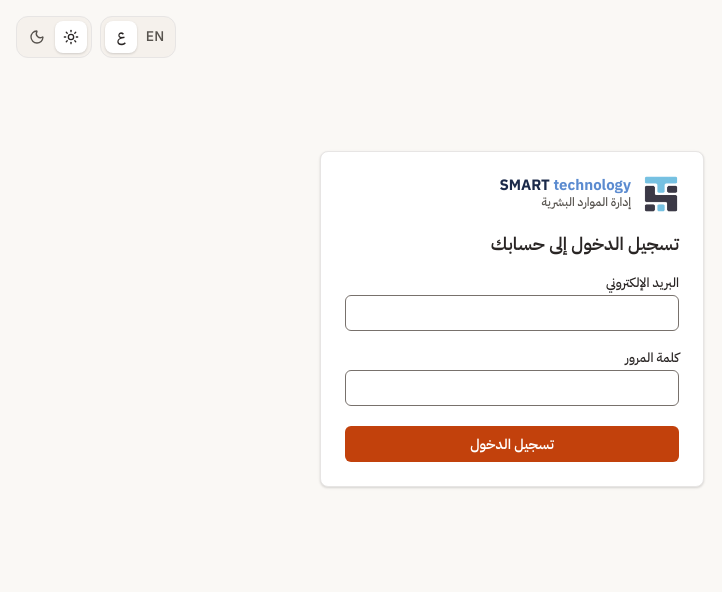
shows the translated refusal
The image size is (722, 592).
In the field labelled "البريد الإلكتروني": x=512, y=313 [345,295,679,331], type "hr@smart.test"
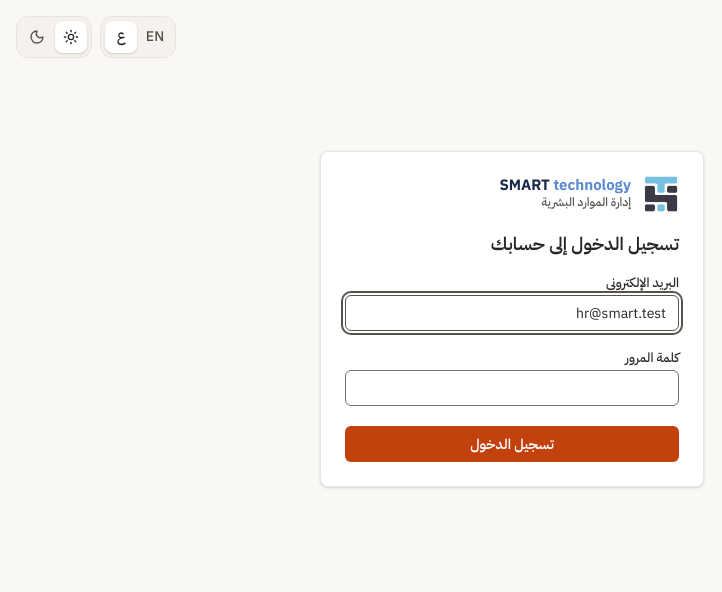
In the password field labelled "كلمة المرور": x=512, y=388 [345,370,679,406], type "secret123"
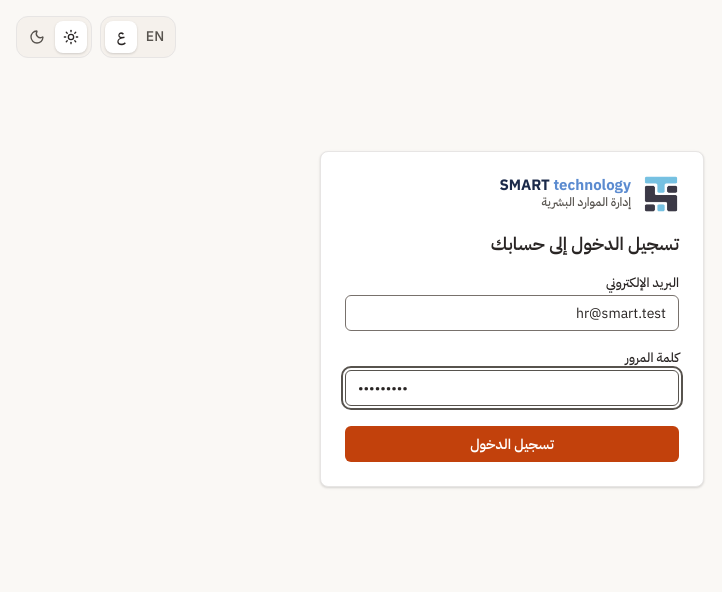
Click the button "تسجيل الدخول": x=512, y=444 [345,426,679,462]
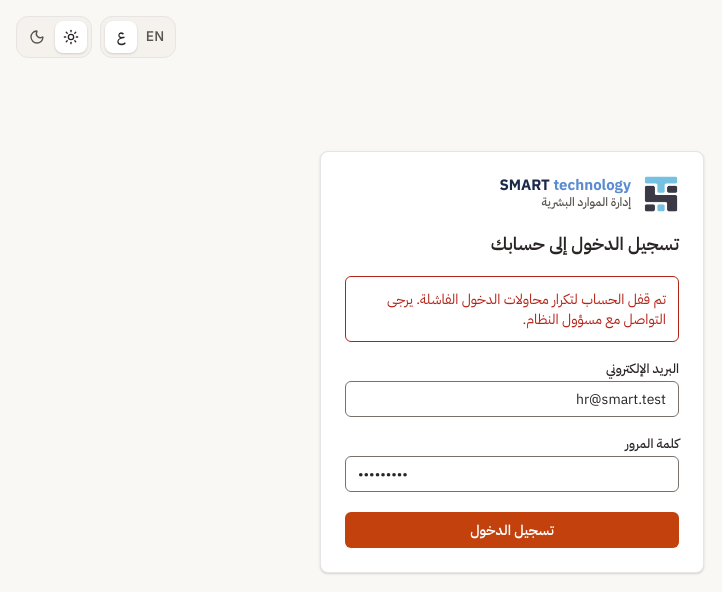
Check: the message reads "تم قفل الحساب لتكرار محاولات الدخول الفاشلة. يرجى التواصل مع مسؤول النظام.", box [387,290,666,328]
